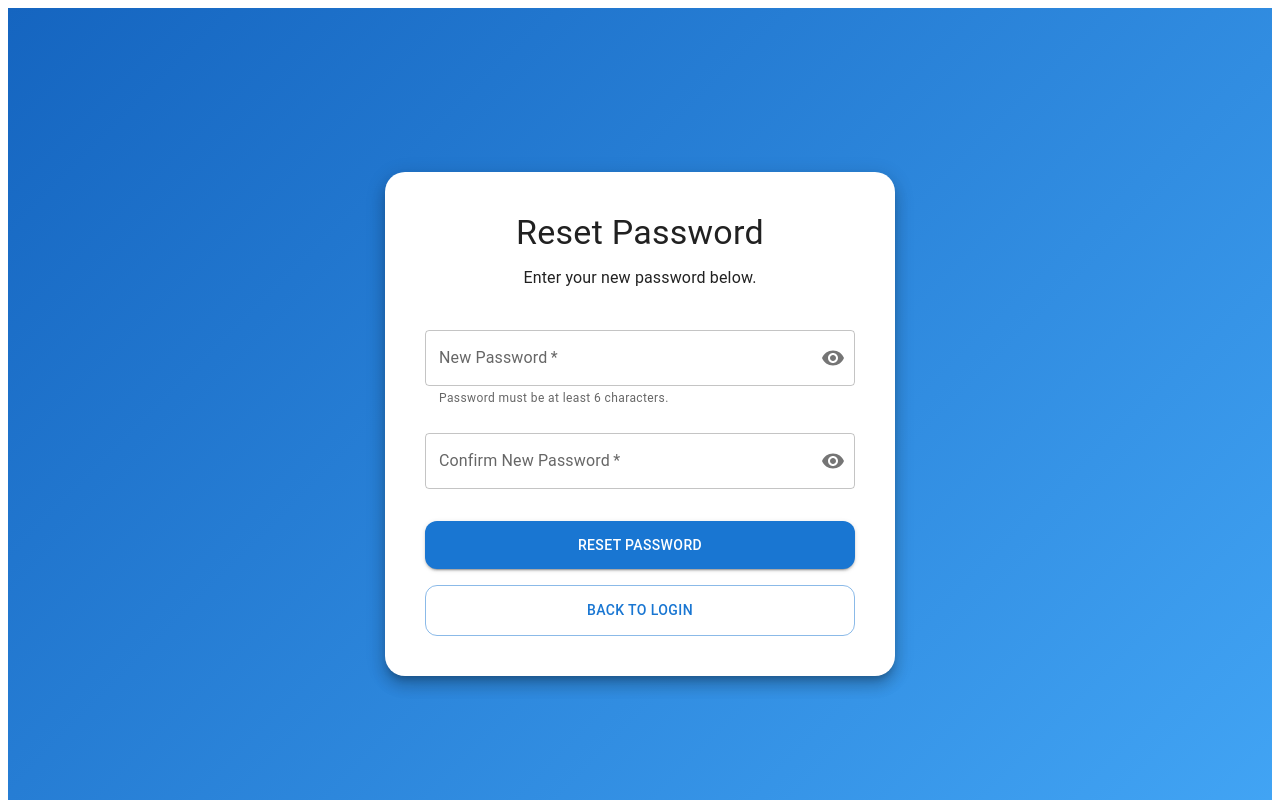
Test: Reset Password › resetPasswordRejectsMismatchedPasswords
Type "NewPassword123!" into the password field labelled "New Password *" at {"x": 615, "y": 358}, box [425, 330, 805, 386]
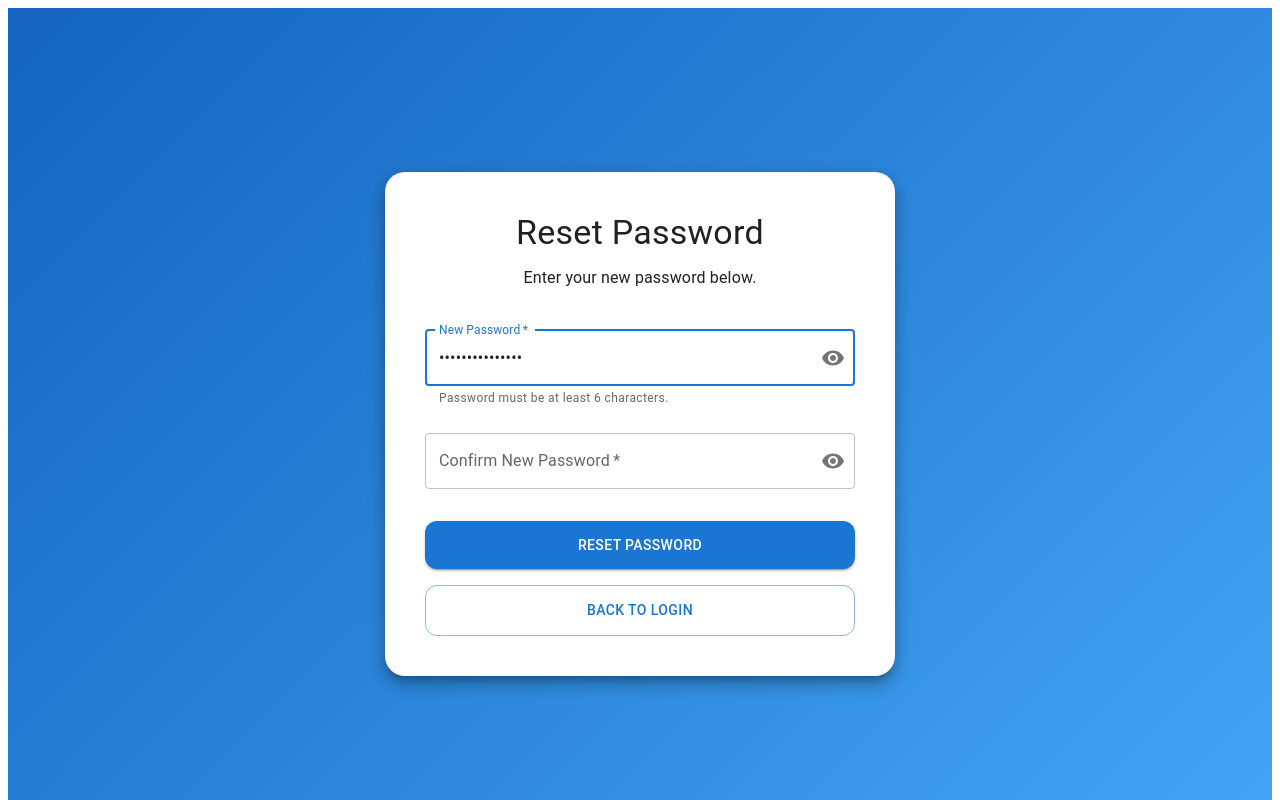
Type "DifferentPassword123!" into the password field labelled "Confirm New Password *" at {"x": 615, "y": 461}, box [425, 433, 805, 489]
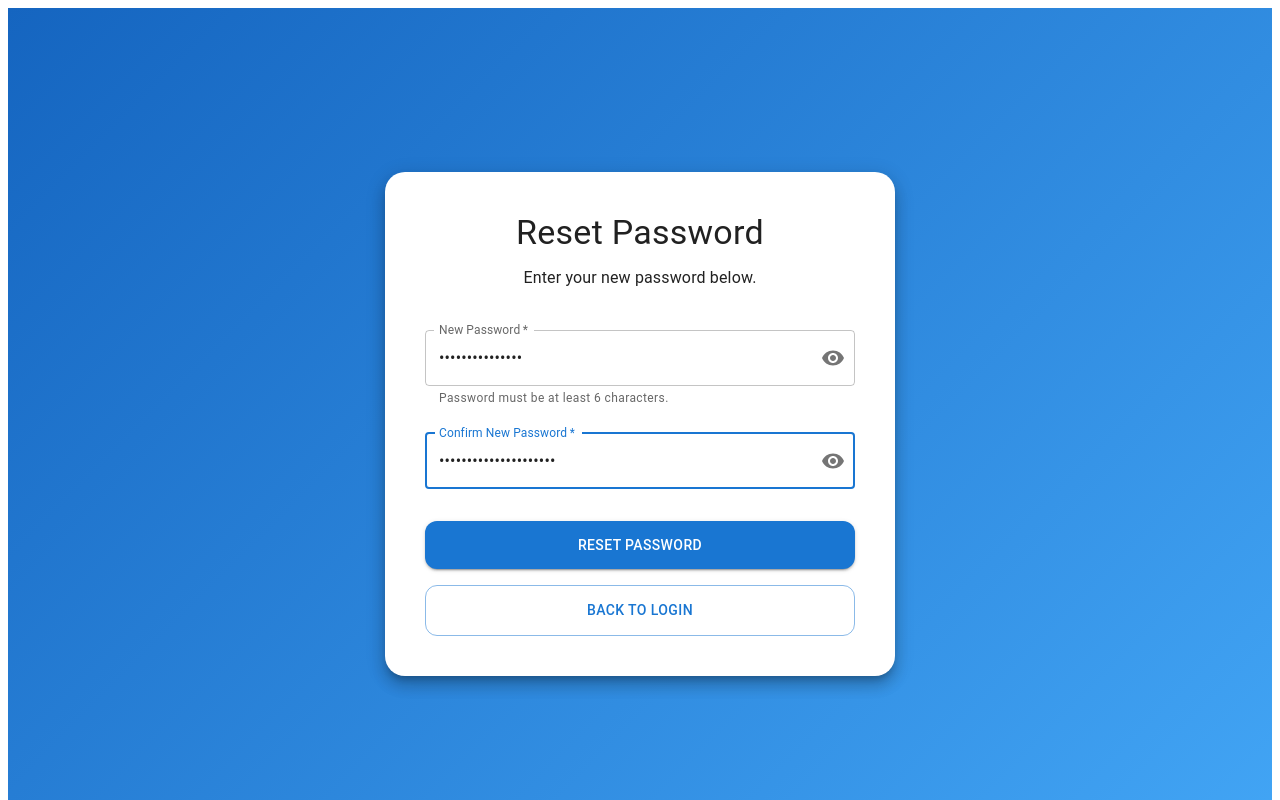
Click the button "Reset Password" at {"x": 640, "y": 545}, box [425, 521, 855, 569]
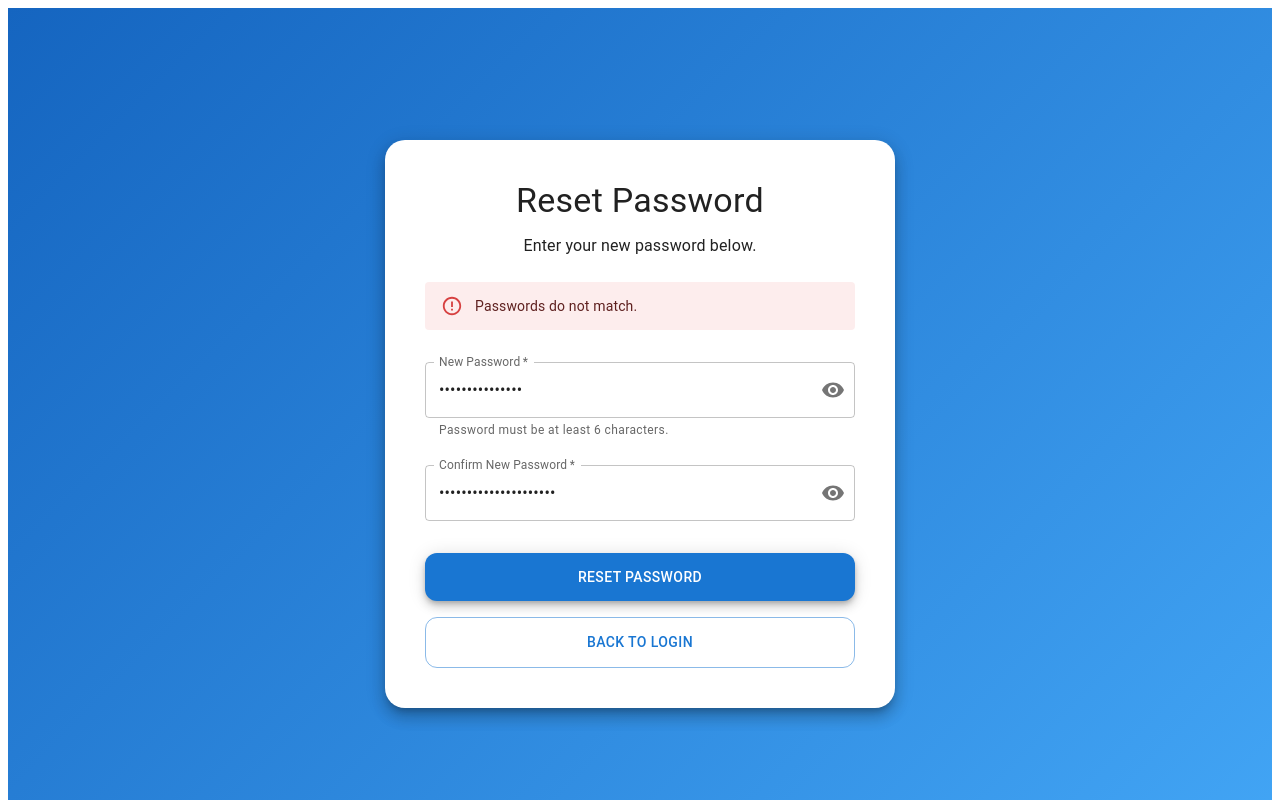
Result: the text "Passwords do not match." is shown at [475, 298, 637, 314]
